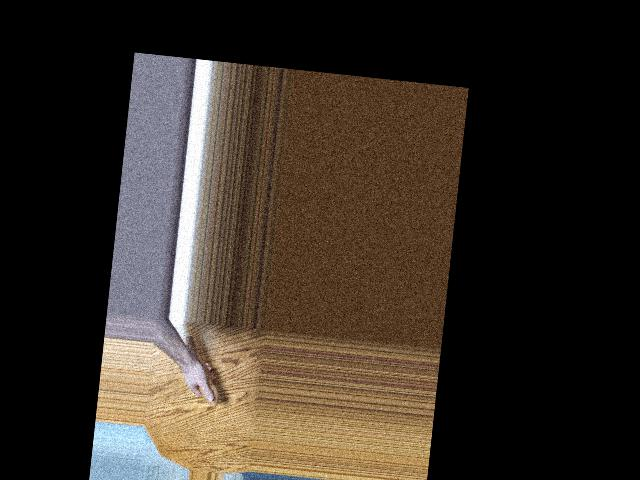sweet_potato: (177, 323, 227, 408)
